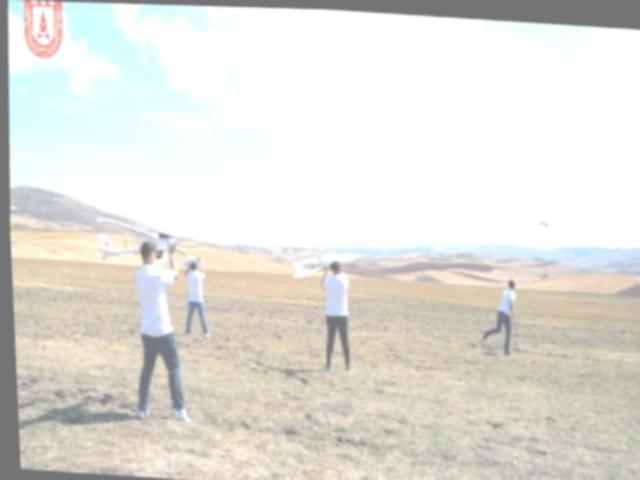uav: (81, 210, 183, 253), (284, 241, 358, 281), (497, 205, 572, 231)
